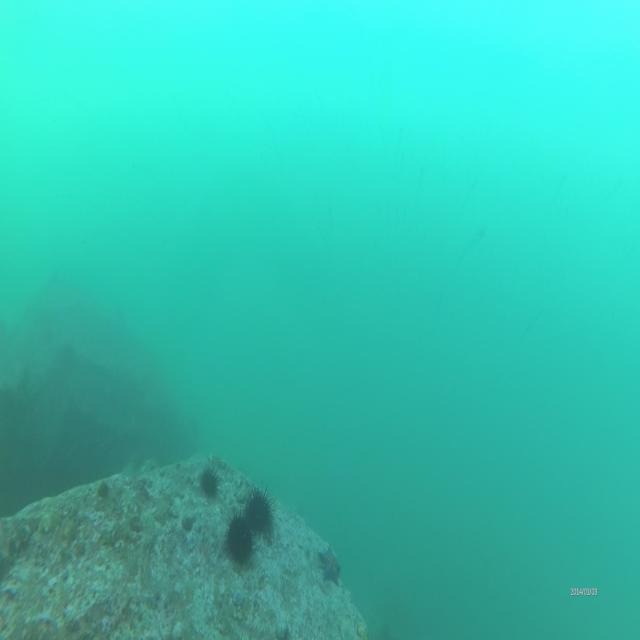echinus: (222, 509, 260, 570), (241, 480, 279, 540), (196, 464, 222, 495)
starfish: (318, 538, 344, 590)
